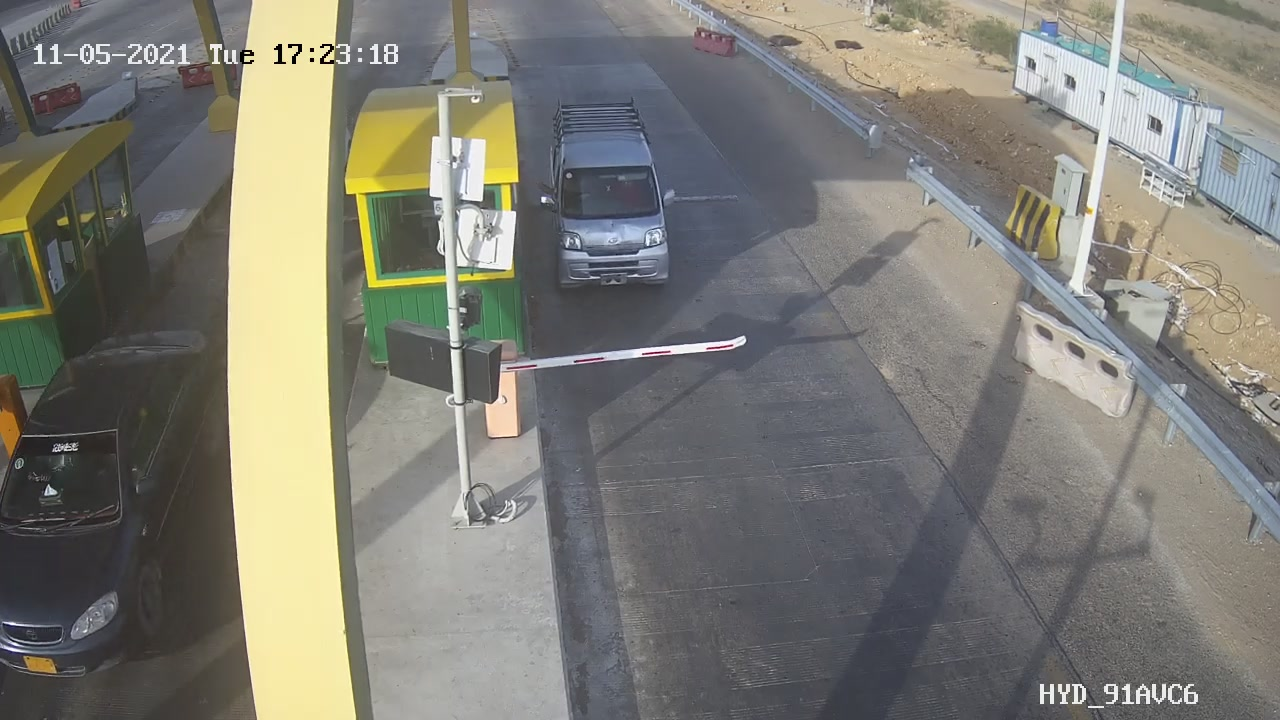F1: (540, 84, 680, 306)
